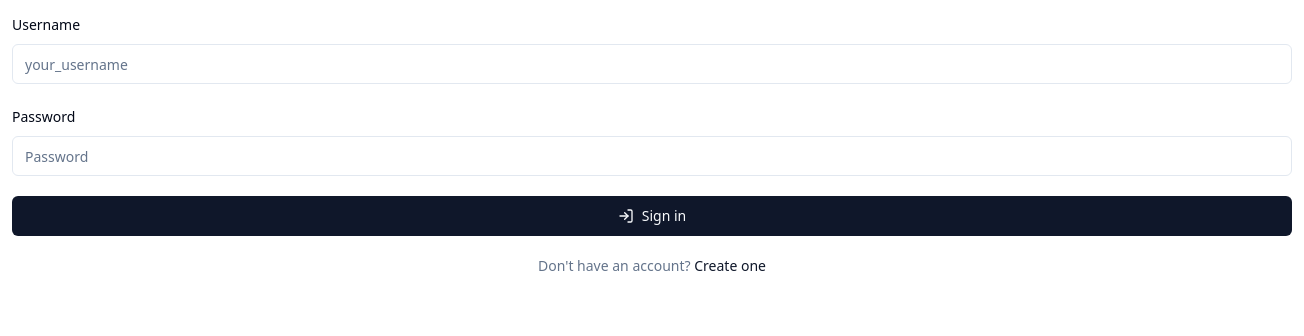
LoginForm › shows validation error when username is empty
The image size is (1304, 336).
Click the button "Sign in" at (652, 216), box [12,196,1292,236]
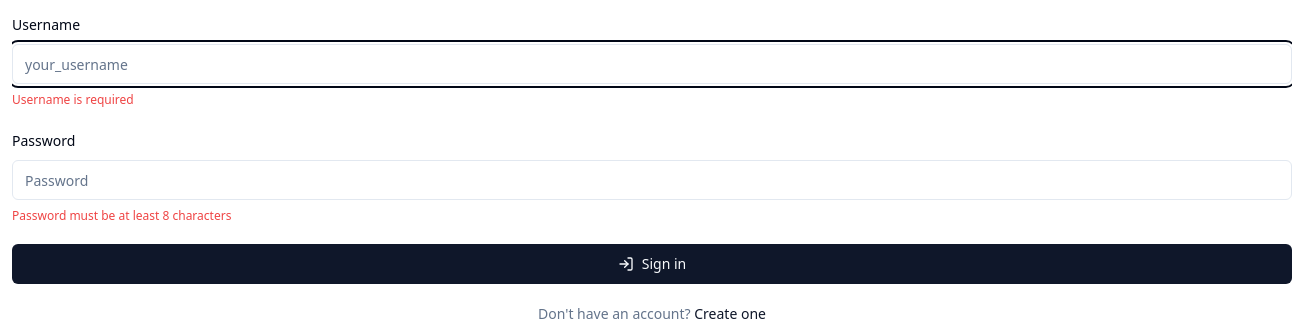
Expected: the text "Username is required" is shown, [12,91,134,108]
